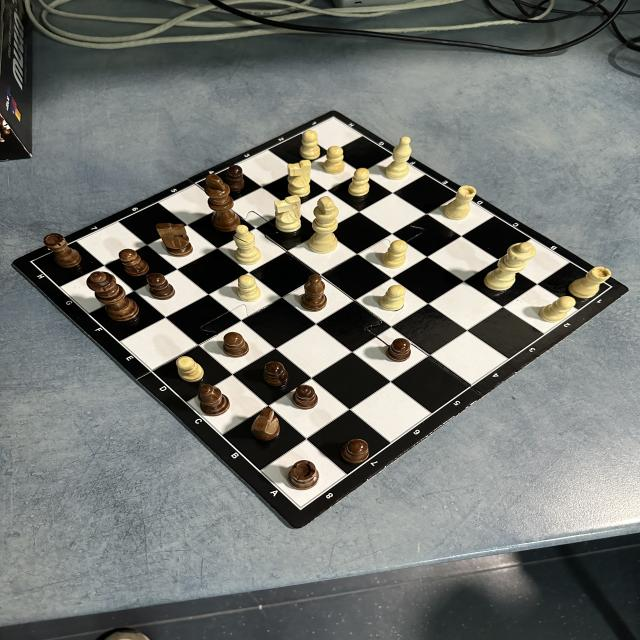Black-Bishop: (197, 384, 231, 416), (300, 274, 328, 312)
Black-King: (204, 174, 241, 232)
Black-Knight: (156, 222, 193, 258), (251, 408, 281, 441)
Black-Pawn: (118, 248, 150, 277), (146, 273, 176, 300), (340, 438, 370, 464), (223, 332, 250, 358), (262, 361, 290, 386), (292, 384, 318, 410), (386, 338, 411, 362), (225, 165, 245, 192)
Black-Queen: (86, 271, 139, 322)
Black-Rook: (43, 233, 82, 269), (288, 460, 320, 490)
White-Bishop: (385, 136, 412, 180), (233, 225, 262, 265)
White-King: (308, 196, 339, 254)
White-Knight: (274, 195, 302, 233), (286, 160, 312, 198)
White-Pawn: (539, 296, 576, 322), (382, 240, 408, 269), (176, 356, 204, 382), (379, 285, 406, 311), (237, 274, 261, 302), (348, 168, 371, 197), (299, 130, 321, 160), (323, 146, 345, 174)
White-Queen: (483, 242, 536, 291)
White-Rook: (568, 266, 611, 299), (443, 185, 477, 221)
